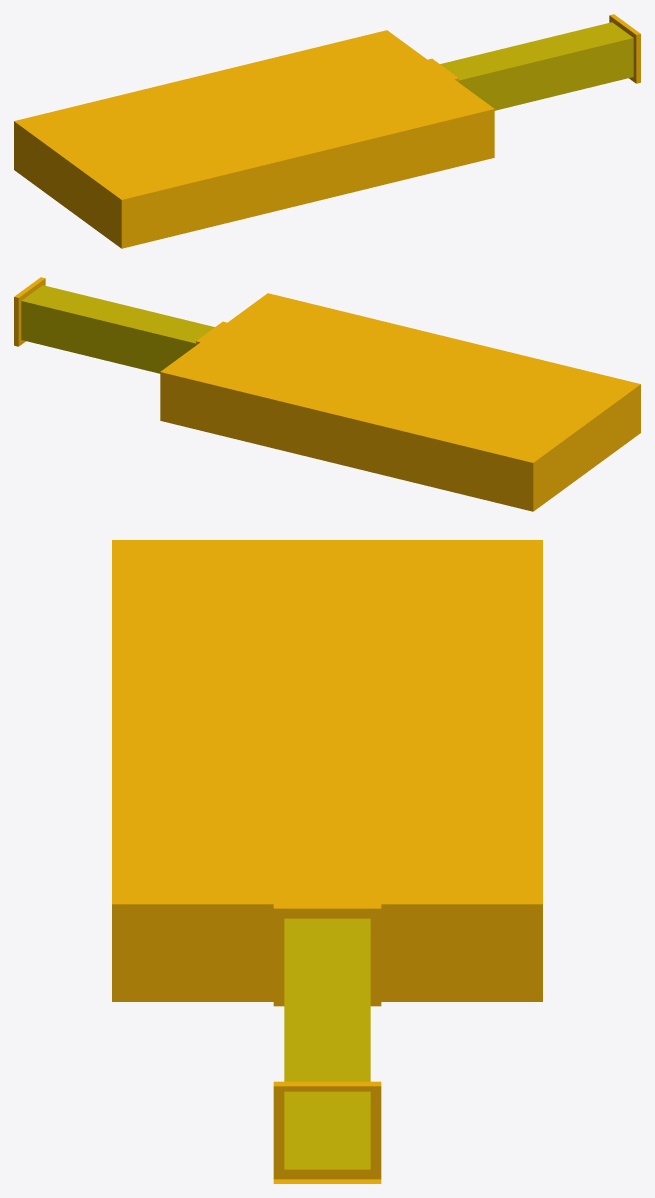
Rendered from fender_support_1x3.dae.
3 views of the same model, one above another, from view 1: azimuth 30°, elevation 25°; view 2: azimuth 150°, elevation 25°; view 3: azimuth 270°, elevation 25° (orthographic). The views are drawn at different scales.
Parts seen in each view (by area): view 1: Cube; view 2: Cube; view 3: Cube.
Boxes of the visible parts, box(x1,y1,x2,y2) form: Cube: box(14, 14, 640, 248); Cube: box(14, 277, 640, 511); Cube: box(112, 540, 542, 1183).
Bounding box in the file's own units: 0.75 × 0.25 × 0.0625.
